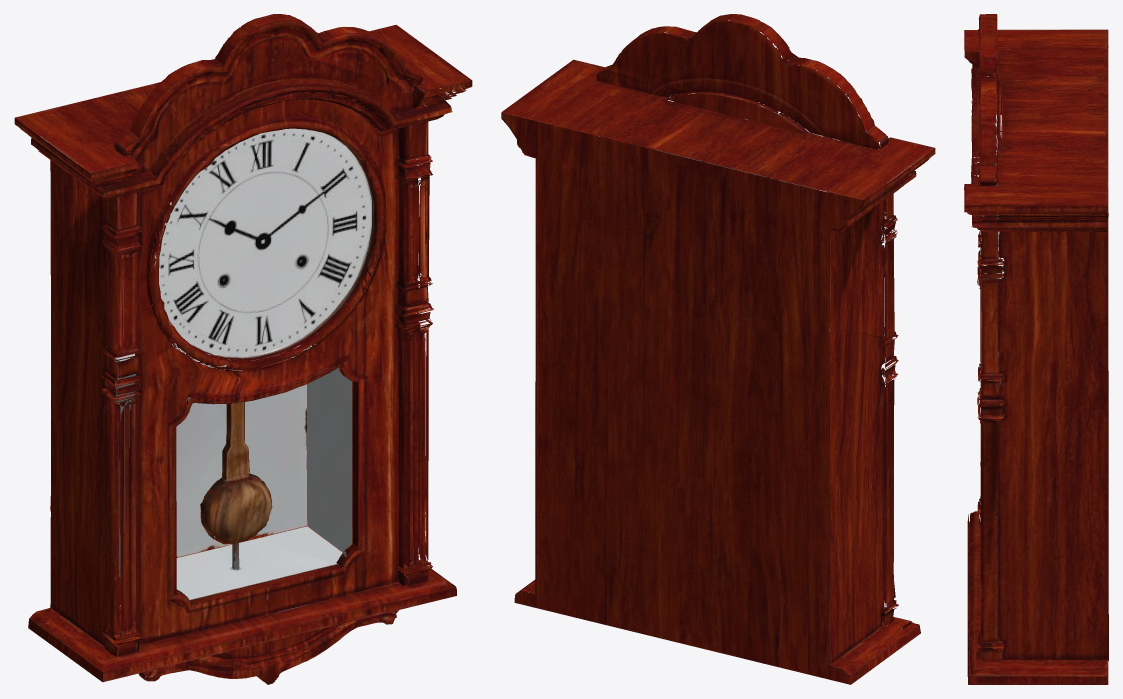
File: wallclock.glb
3 views of the same model, side by side, from view 1: azimuth 30°, elevation 25°; view 2: azimuth 150°, elevation 25°; view 3: azimuth 270°, elevation 25° (orthographic). The views are drawn at different scales.
Visible parts, largest first — view 1: wallclock; view 2: wallclock; view 3: wallclock.
Boxes of the visible parts, x1,y1,x2,y2 form: wallclock: (14,14,472,684); wallclock: (501,14,935,684); wallclock: (964,14,1108,684).
Size of the model in its own units: 0.6024 by 1 by 0.2091.
Materials: 1 (1 with a texture image).
